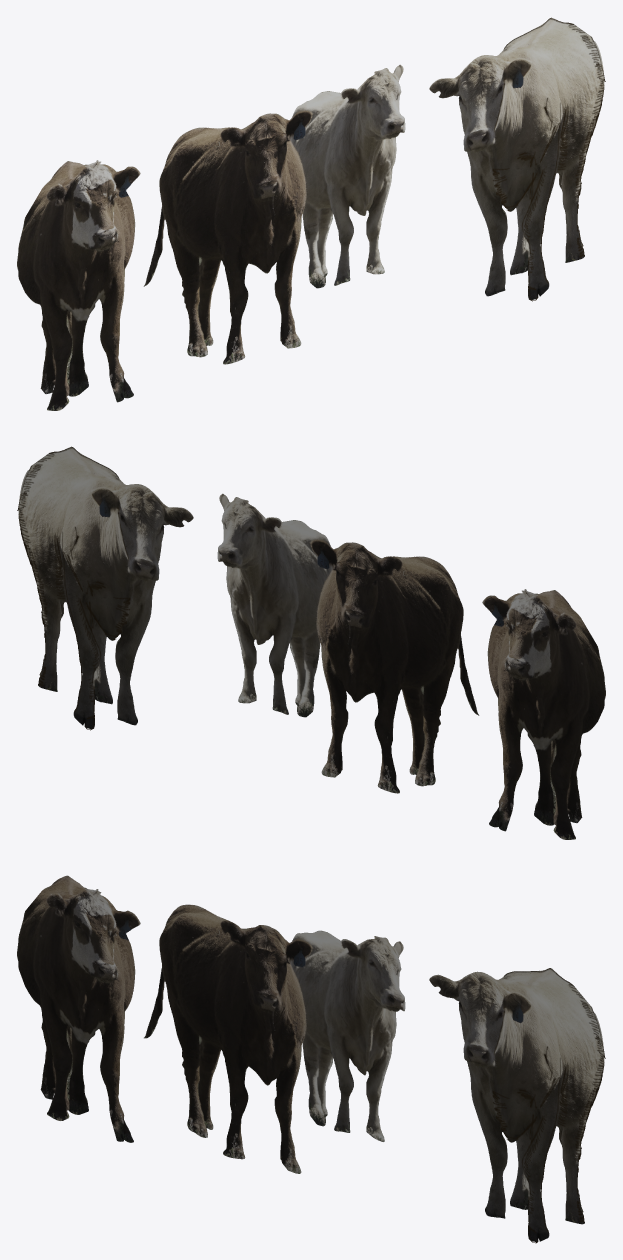
The model's file is vacas.fbx.
The picture shows the model from 3 angles, top to bottom: view 1: azimuth 30°, elevation 25°; view 2: azimuth 150°, elevation 25°; view 3: azimuth 330°, elevation 25°; orthographic projection.
Parts seen in each view (by area): view 1: Vacas; view 2: Vacas; view 3: Vacas.
Part boxes in pixels (x1,y1,x2,y2): Vacas: [17, 17, 605, 410]; Vacas: [17, 446, 605, 839]; Vacas: [17, 875, 605, 1243].
Size of the model in its own units: 14.71 by 6.75 by 0.
1 material, 1 textured.
